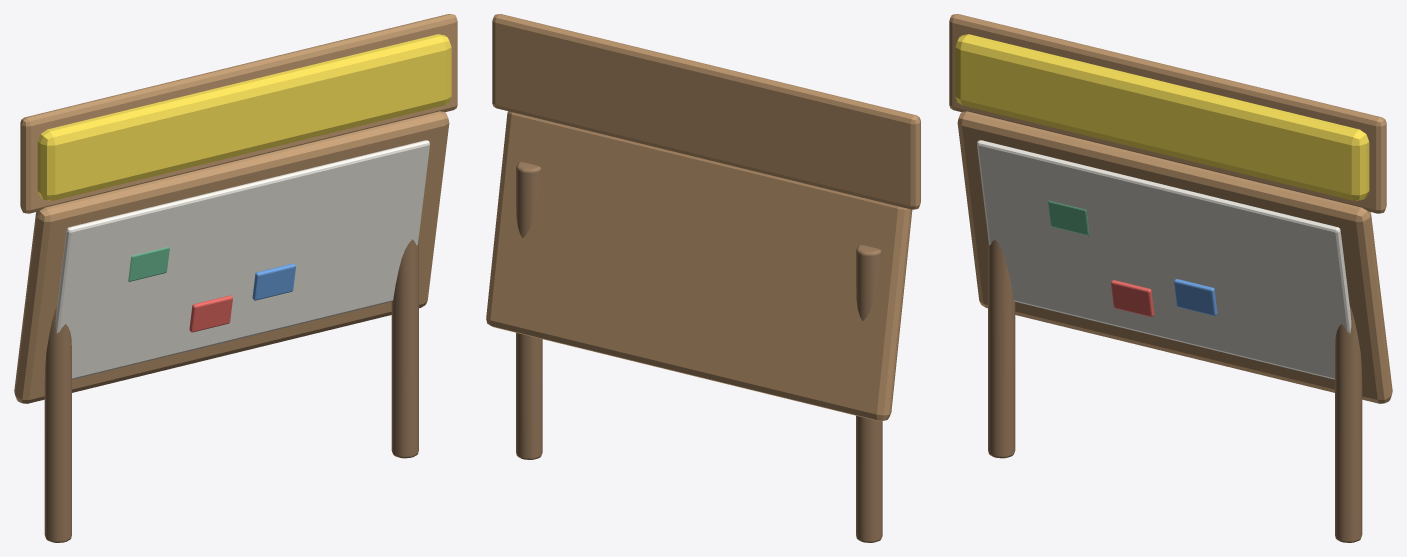
File: map_board.fbx
The picture shows the model from 3 angles, left to right: view 1: azimuth 30°, elevation 25°; view 2: azimuth 150°, elevation 25°; view 3: azimuth 330°, elevation 25°; orthographic projection. The views are drawn at different scales.
Visible parts, largest first — view 1: Visual; view 2: Visual; view 3: Visual.
Part boxes in pixels (x1,y1,x2,y2): Visual: (14, 14, 457, 542); Visual: (486, 14, 920, 542); Visual: (949, 14, 1392, 542).
Size of what is drawn, in the model's own units: 276 by 264 by 38.8.
